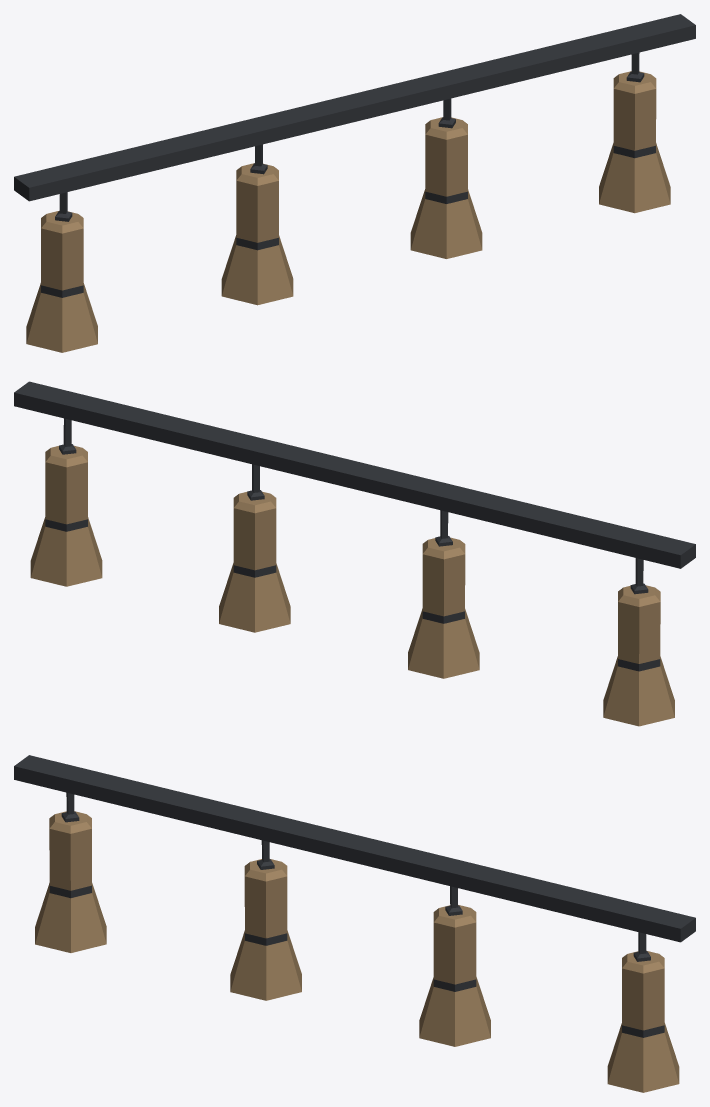
File: SM_Prop_Light_07.obj
3 renders of one model, top to bottom at view 1: azimuth 30°, elevation 25°; view 2: azimuth 150°, elevation 25°; view 3: azimuth 330°, elevation 25°, orthographic.
Parts seen in each view (by area): view 1: SM_Prop_Light_07_0; view 2: SM_Prop_Light_07_0; view 3: SM_Prop_Light_07_0.
Boxes of the visible parts, left/top/right/bottom form: SM_Prop_Light_07_0: left=14, top=14, right=695, bottom=352; SM_Prop_Light_07_0: left=14, top=381, right=695, bottom=726; SM_Prop_Light_07_0: left=14, top=755, right=695, bottom=1092.
Size of the model in its own units: 3.06 by 0.7326 by 0.2844.
1 material, 1 textured.
